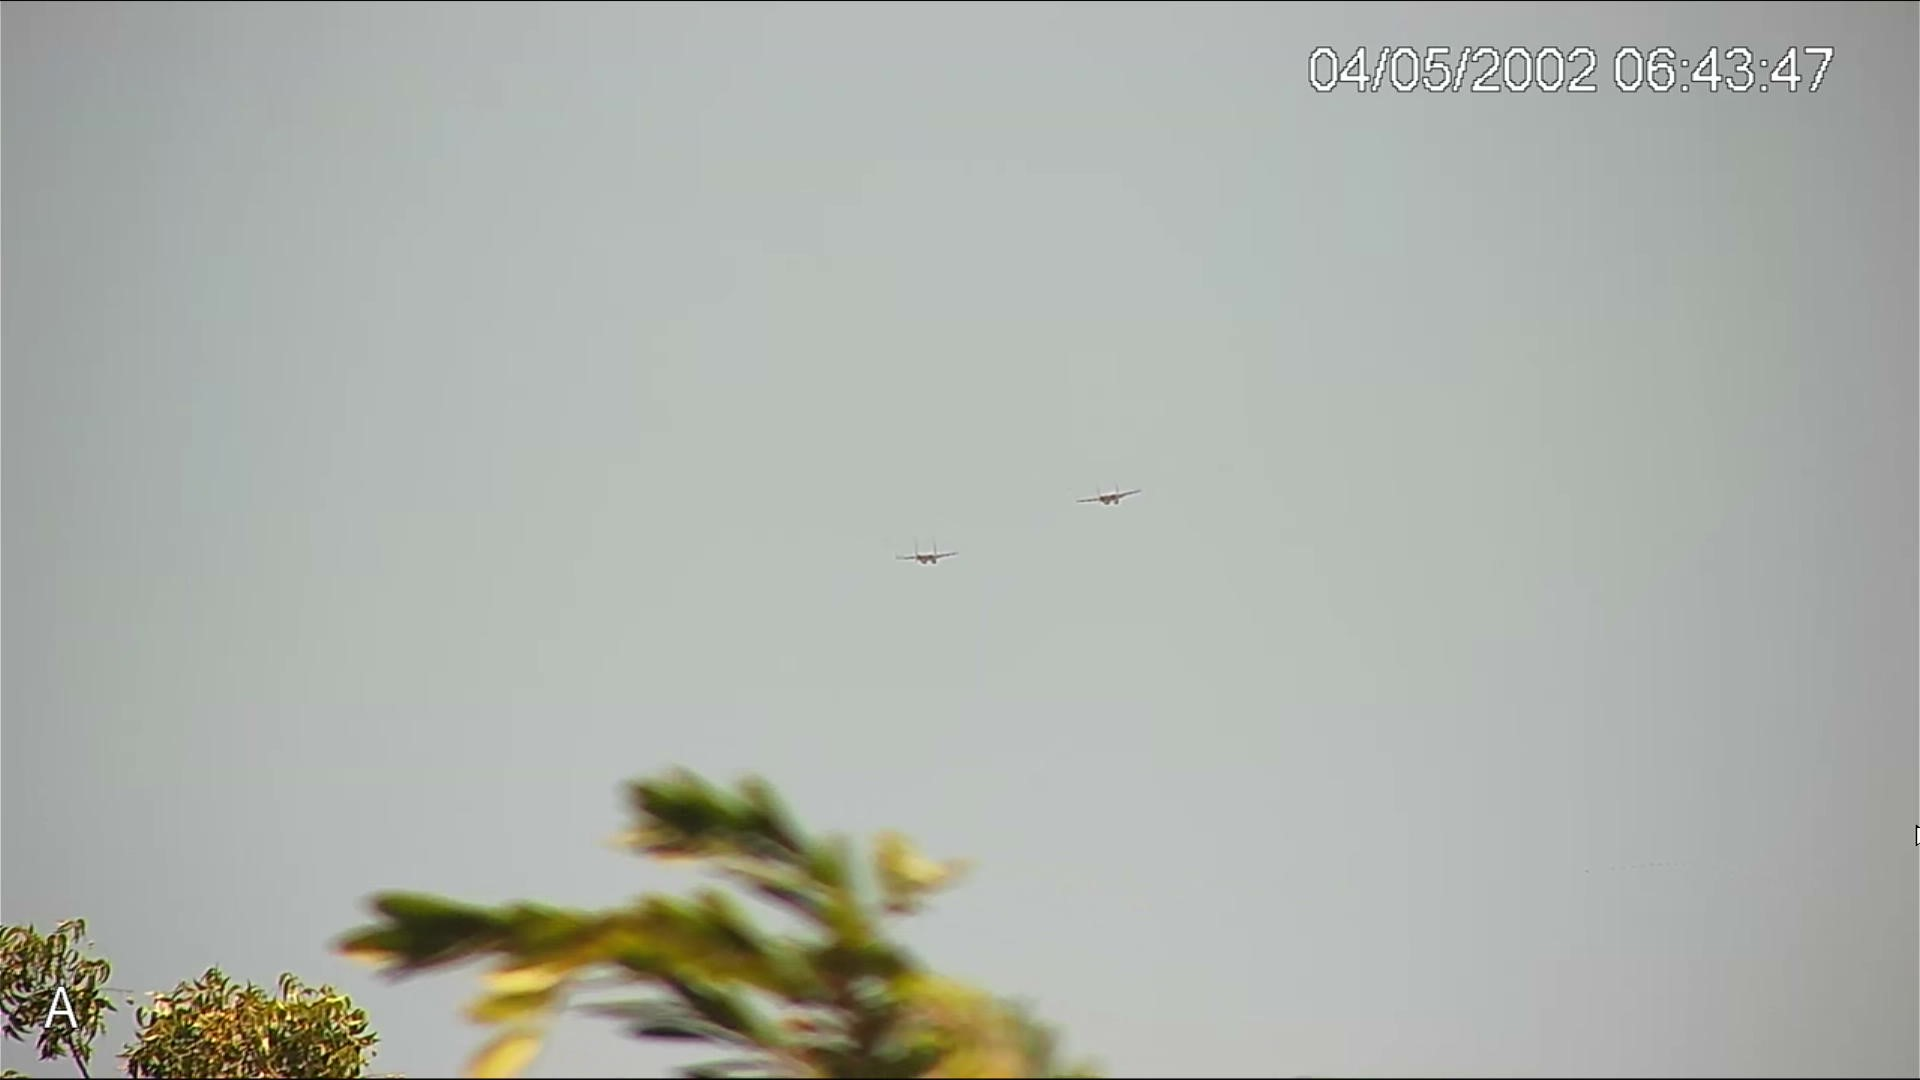SU_30: (1069, 483, 1147, 512), (894, 543, 969, 570)
